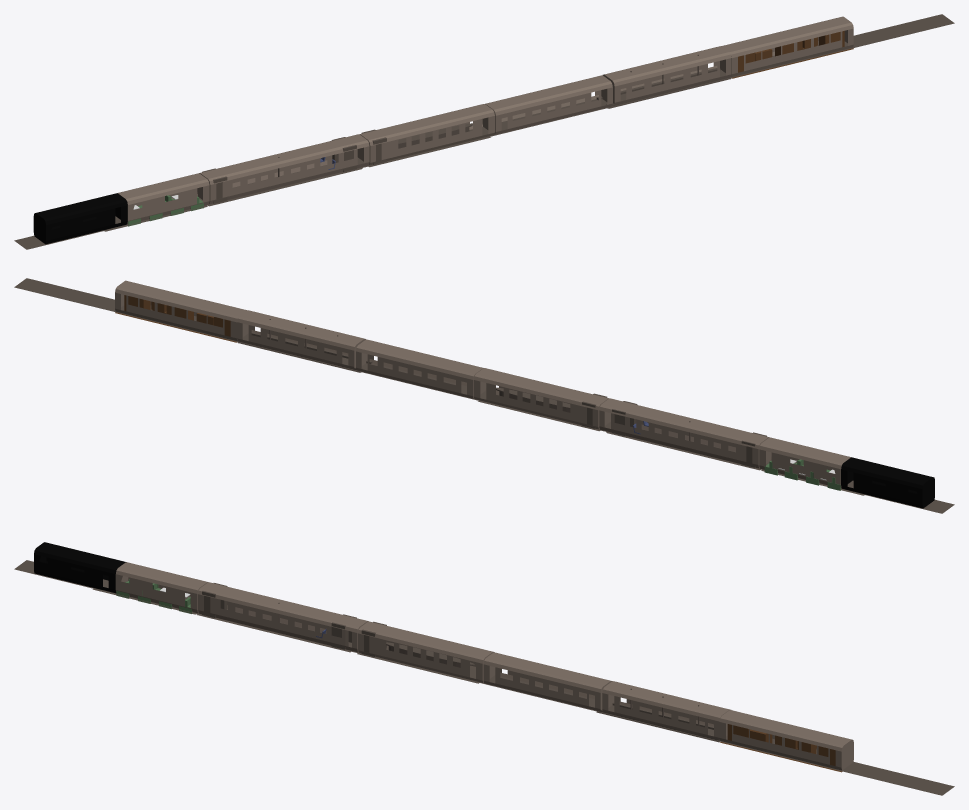
File: updated 7 train cars.glb
The picture shows the model from 3 angles, top to bottom: view 1: azimuth 30°, elevation 25°; view 2: azimuth 150°, elevation 25°; view 3: azimuth 330°, elevation 25°; orthographic projection.
Visible parts, largest first — view 1: Drivers cabin locked.001, floorplane.001; view 2: Drivers cabin locked.001, floorplane.001; view 3: Drivers cabin locked.001, floorplane.001.
Part boxes in pixels (bbox=[...]): Drivers cabin locked.001: bbox=[33, 16, 853, 244]; floorplane.001: bbox=[14, 14, 954, 249]; Drivers cabin locked.001: bbox=[115, 280, 934, 508]; floorplane.001: bbox=[14, 278, 954, 513]; Drivers cabin locked.001: bbox=[34, 542, 853, 772]; floorplane.001: bbox=[14, 560, 954, 795].
Size of the model in its own units: 42.58 by 1.17 by 1.03.
